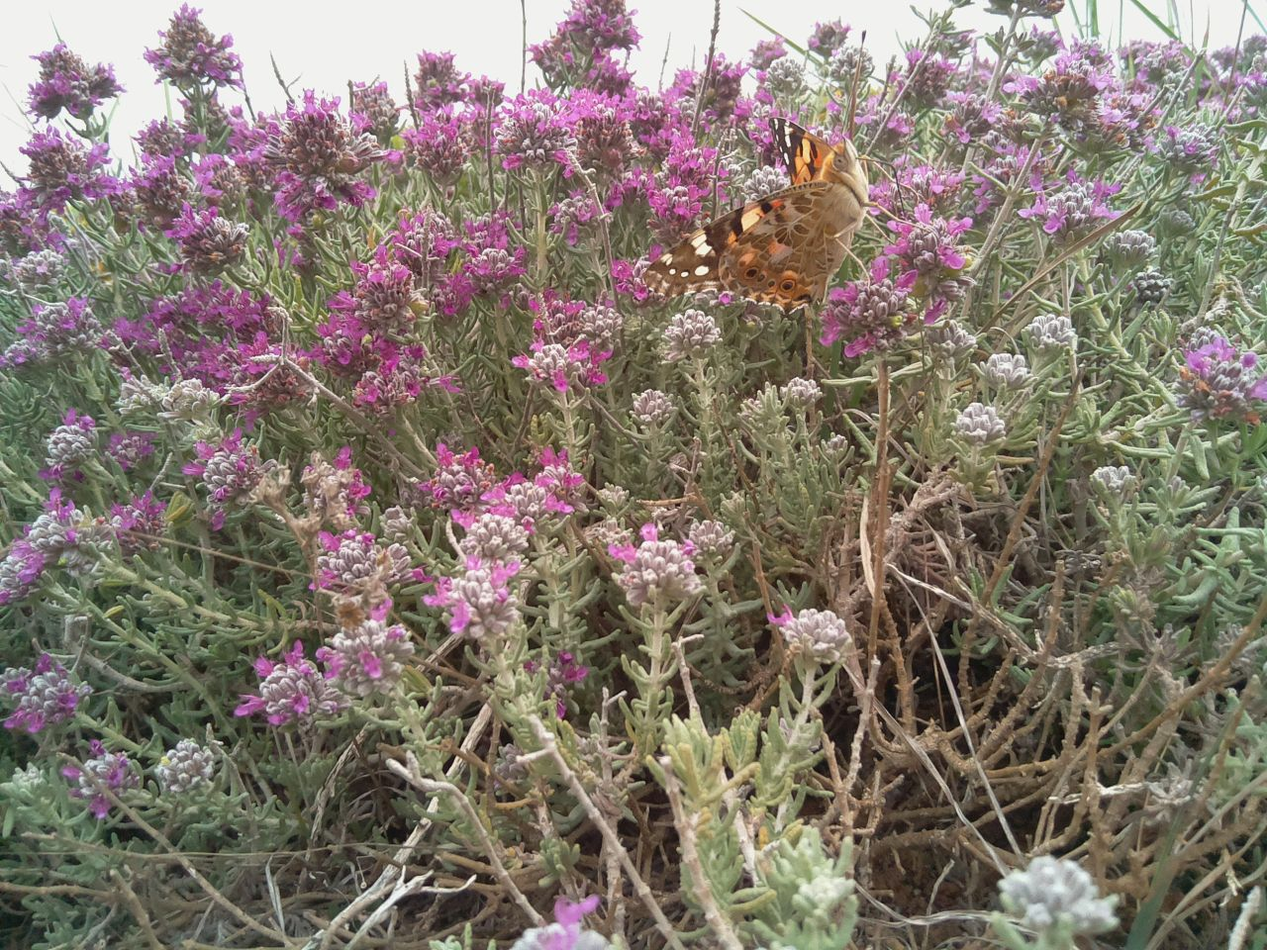Vanessa cardui: (644, 106, 903, 318)
